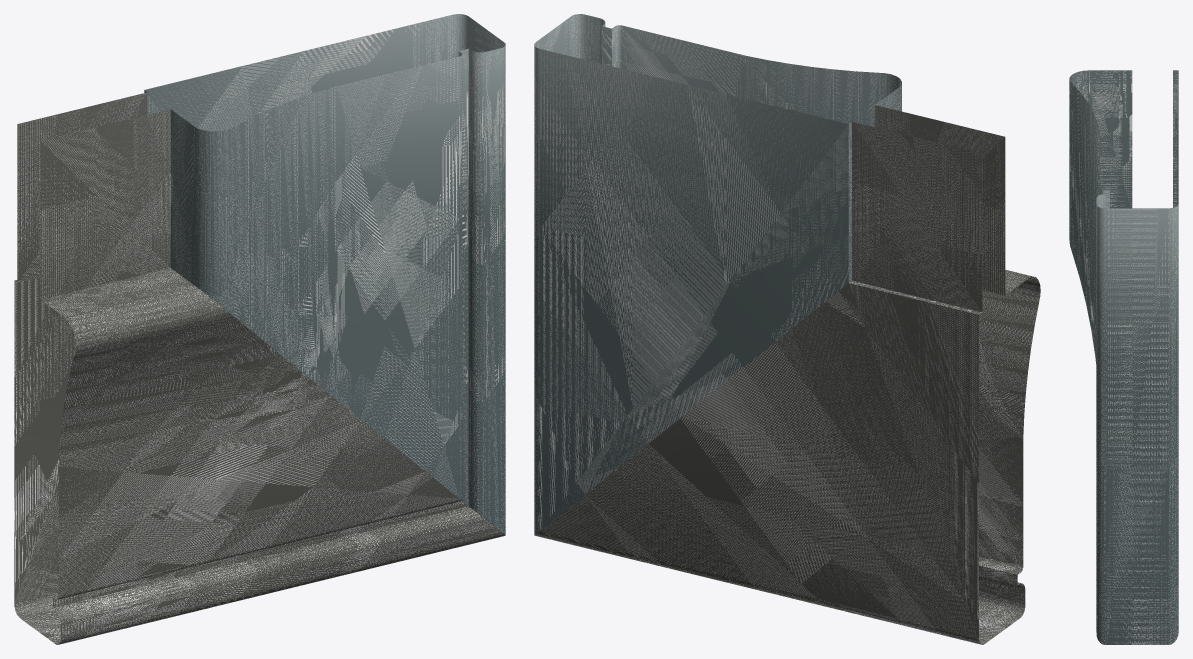
File: original-35.obj
The picture shows the model from 3 angles, left to right: view 1: azimuth 30°, elevation 25°; view 2: azimuth 150°, elevation 25°; view 3: azimuth 270°, elevation 25°; orthographic projection. The views are drawn at different scales.
Visible parts, largest first — view 1: TB_11_TR2/TB_11_TR/mesh13/mesh13-geometry#mesh13-geometry; view 2: TB_11_TR2/TB_11_TR/mesh13/mesh13-geometry#mesh13-geometry; view 3: TB_11_TR2/TB_11_TR/mesh13/mesh13-geometry#mesh13-geometry.
Boxes of the visible parts, x1,y1,x2,y2 form: TB_11_TR2/TB_11_TR/mesh13/mesh13-geometry#mesh13-geometry: (14, 14, 505, 644); TB_11_TR2/TB_11_TR/mesh13/mesh13-geometry#mesh13-geometry: (534, 14, 1040, 644); TB_11_TR2/TB_11_TR/mesh13/mesh13-geometry#mesh13-geometry: (1069, 70, 1178, 644).
Bounding box in the file's own units: 0.1357 × 0.1422 × 0.0323.
